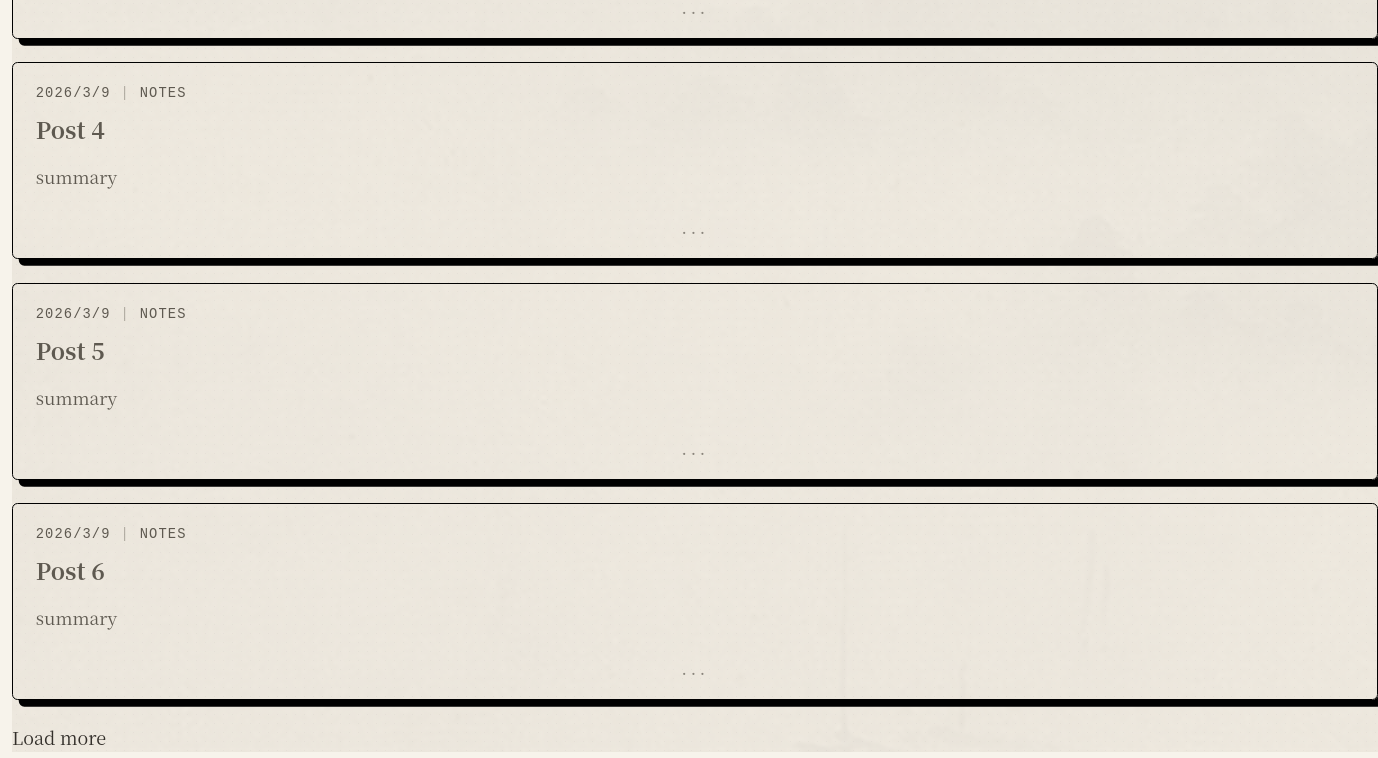
PostsTimeline › falls back to a load more button when IntersectionObserver is unavailable
(page scrolled)
Click the button "Load more" at (59,738), box [12,723,106,752]
(page scrolled)
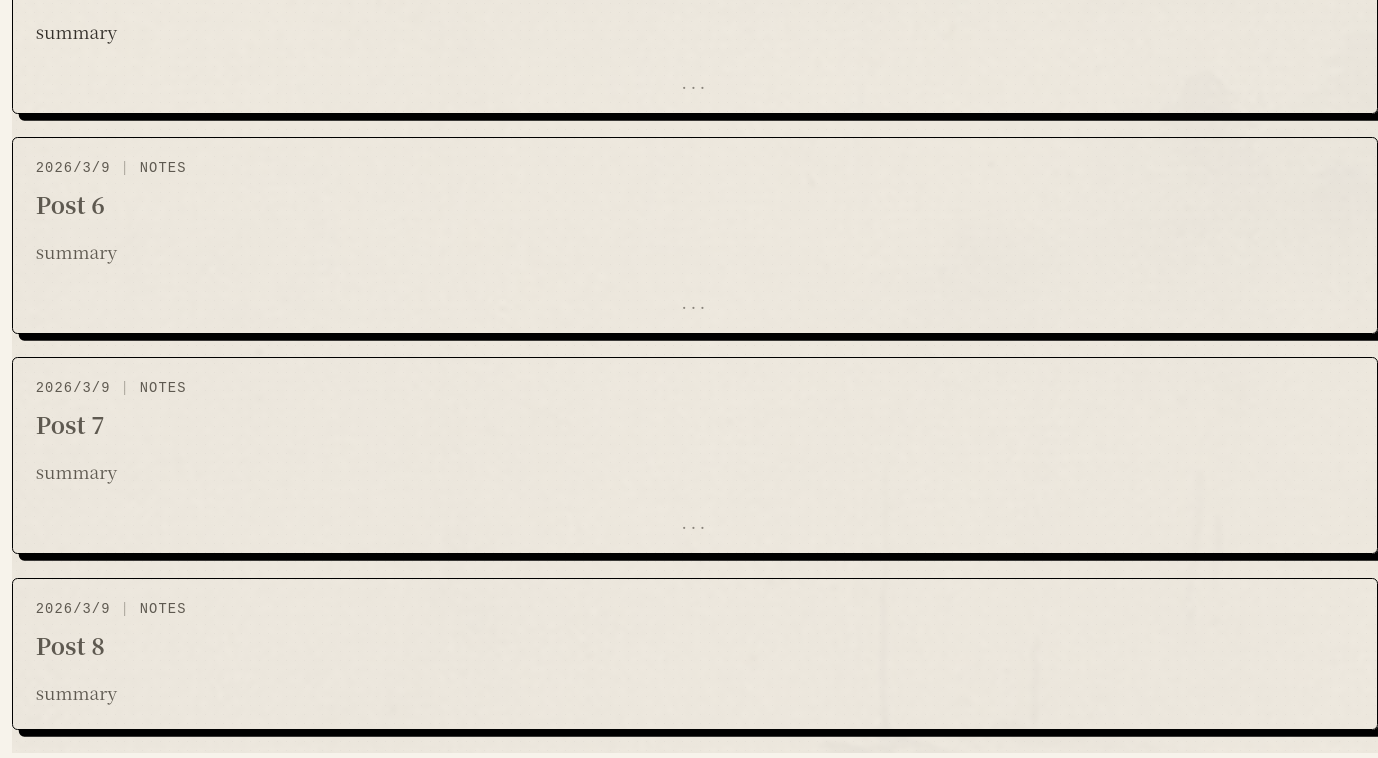
Expected: the element with test id "timeline-card-post-8" is shown, [12,578,1377,729]
